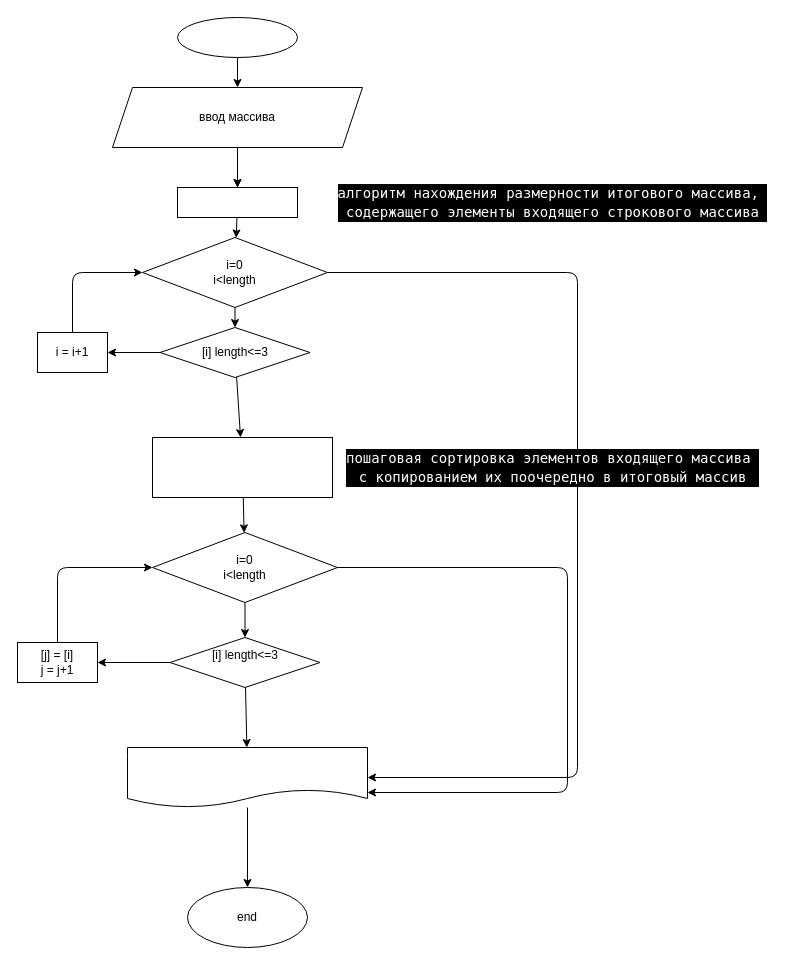
Image size: 795x965. Some labels were removed from this diagram. Here are the shapes that lost their labels. From the top down, the centre of each, then its label:
At [237,37]: "start".
At [237,202]: "resultSize =0".
At [242,467]: "resultArrey = new string [ ]".
At [247,777]: "вывод основного массива вывод отсортированного массива".
